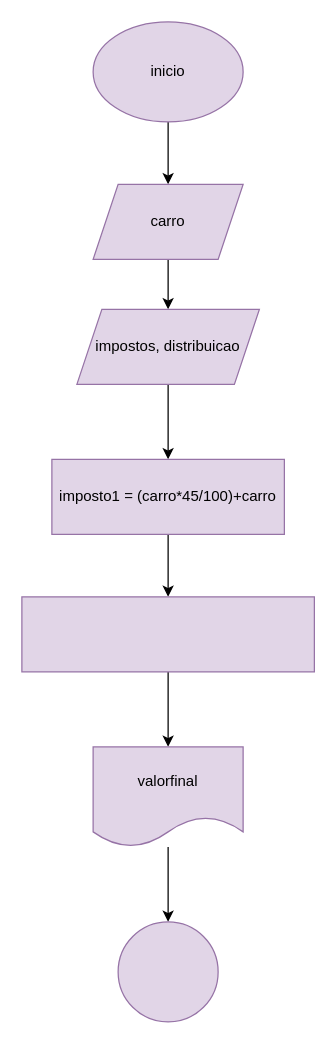
Image size: 336x1044. Some labels were removed from this diagram. Here are the shapes that lost their labels. From the top down, the centre of each, then its label:
point (167, 634): valor = imposto1(imposto*28/100)+carro
point (167, 971): fim
